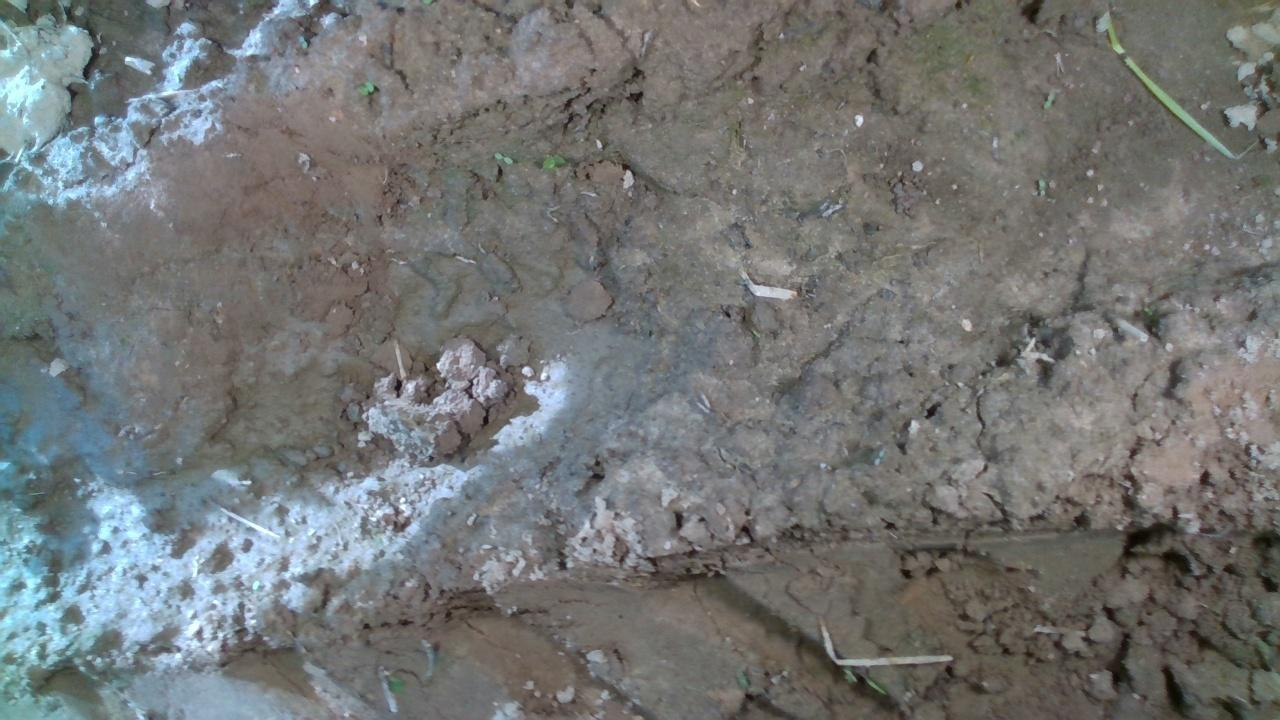weed: (352, 77, 374, 97), (1040, 89, 1054, 109), (492, 150, 513, 163), (296, 33, 308, 52), (1035, 176, 1044, 196)
